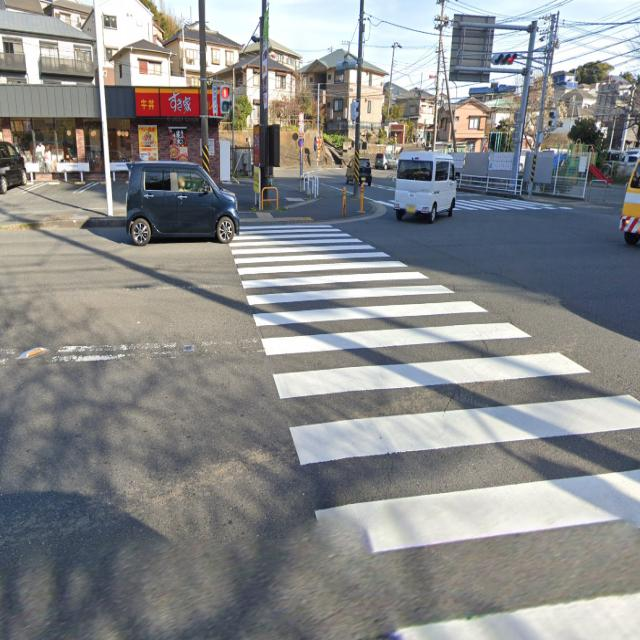traffic-light: (220, 82, 231, 122)
